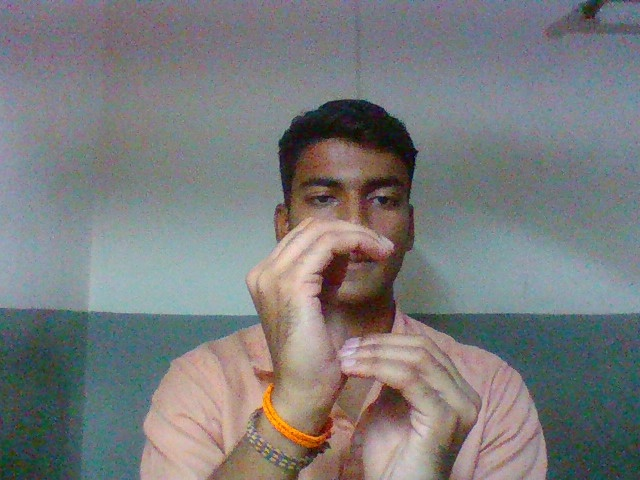S: (233, 206, 492, 480)
